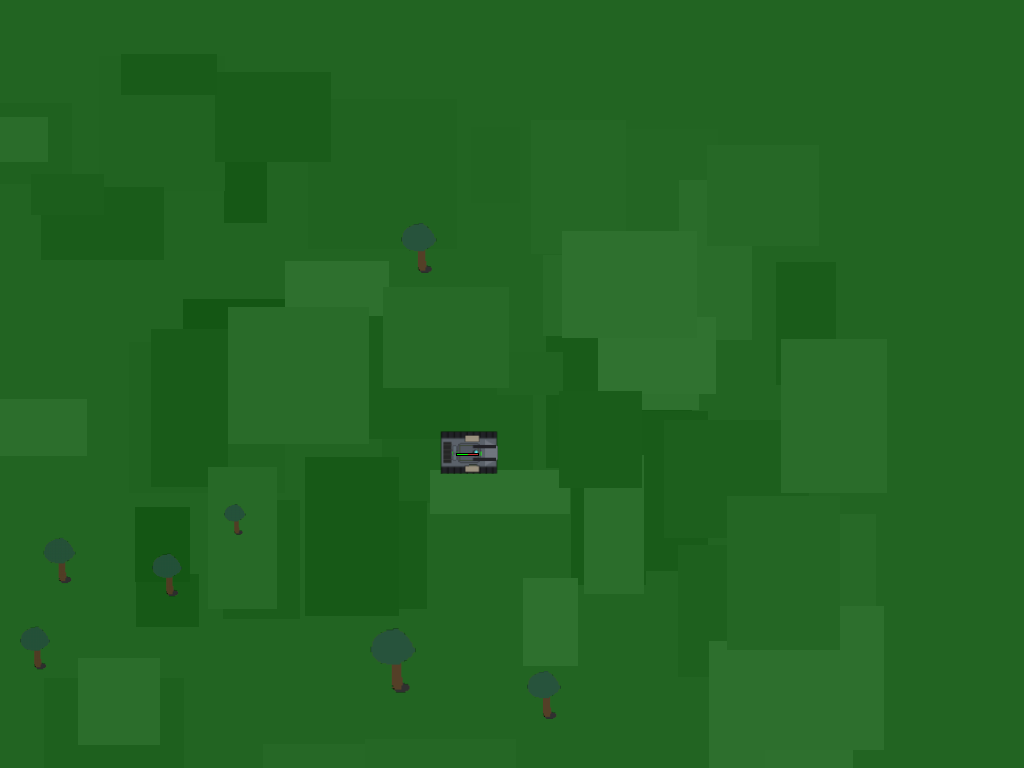APC_rus: (442, 426, 493, 477)
